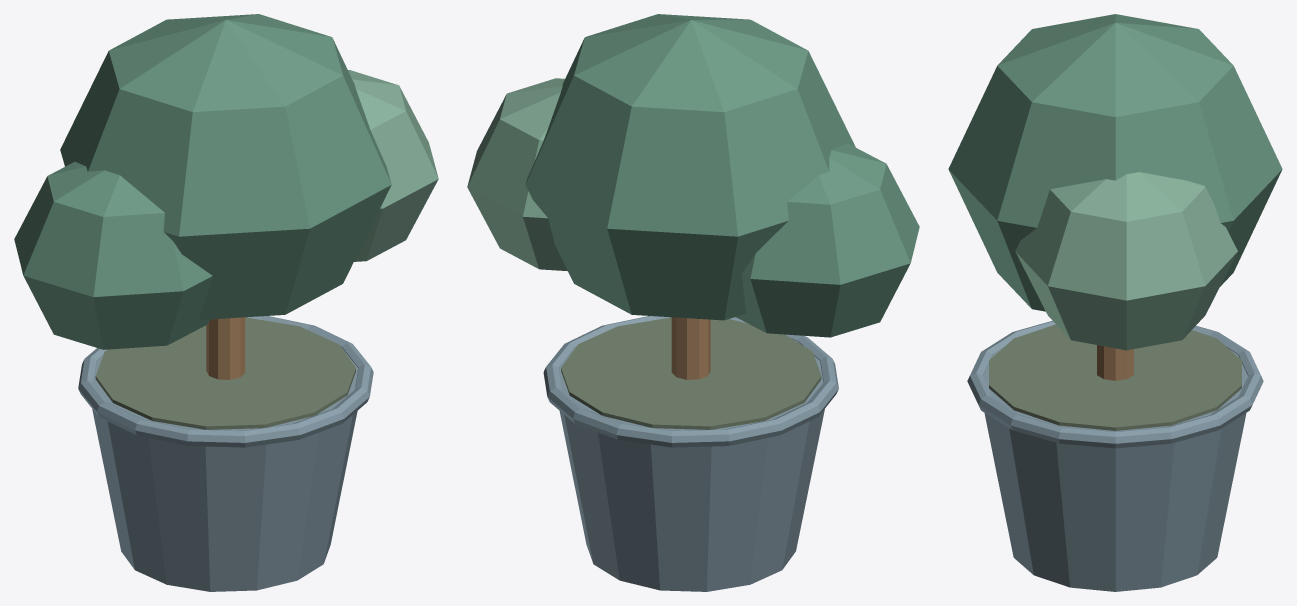
File: round_shrub_planter.glb
3 renders of one model, left to right at view 1: azimuth 30°, elevation 25°; view 2: azimuth 150°, elevation 25°; view 3: azimuth 270°, elevation 25°, orthographic.
Visible parts, largest first — view 1: shrub_mass (×3), shrub_pot, shrub_soil, shrub_lip, trunk; view 2: shrub_mass (×3), shrub_pot, shrub_soil, shrub_lip, trunk; view 3: shrub_mass (×2), shrub_pot, shrub_soil, shrub_lip, trunk.
Part boxes in pixels (<box>): shrub_mass (×3): <box>14,14,438,349</box>; shrub_pot: <box>92,347,358,591</box>; shrub_soil: <box>95,317,355,429</box>; shrub_lip: <box>78,316,373,447</box>; trunk: <box>206,317,245,379</box>; shrub_mass (×3): <box>467,14,919,337</box>; shrub_pot: <box>559,340,824,591</box>; shrub_soil: <box>561,317,821,429</box>; shrub_lip: <box>543,316,838,447</box>; trunk: <box>671,317,710,379</box>; shrub_mass (×2): <box>948,14,1282,350</box>; shrub_pot: <box>983,350,1247,591</box>; shrub_soil: <box>989,324,1241,430</box>; shrub_lip: <box>967,320,1263,448</box>; trunk: <box>1097,345,1133,380</box>.
Size of the model in its own units: 0.865 by 1.04 by 0.6.
